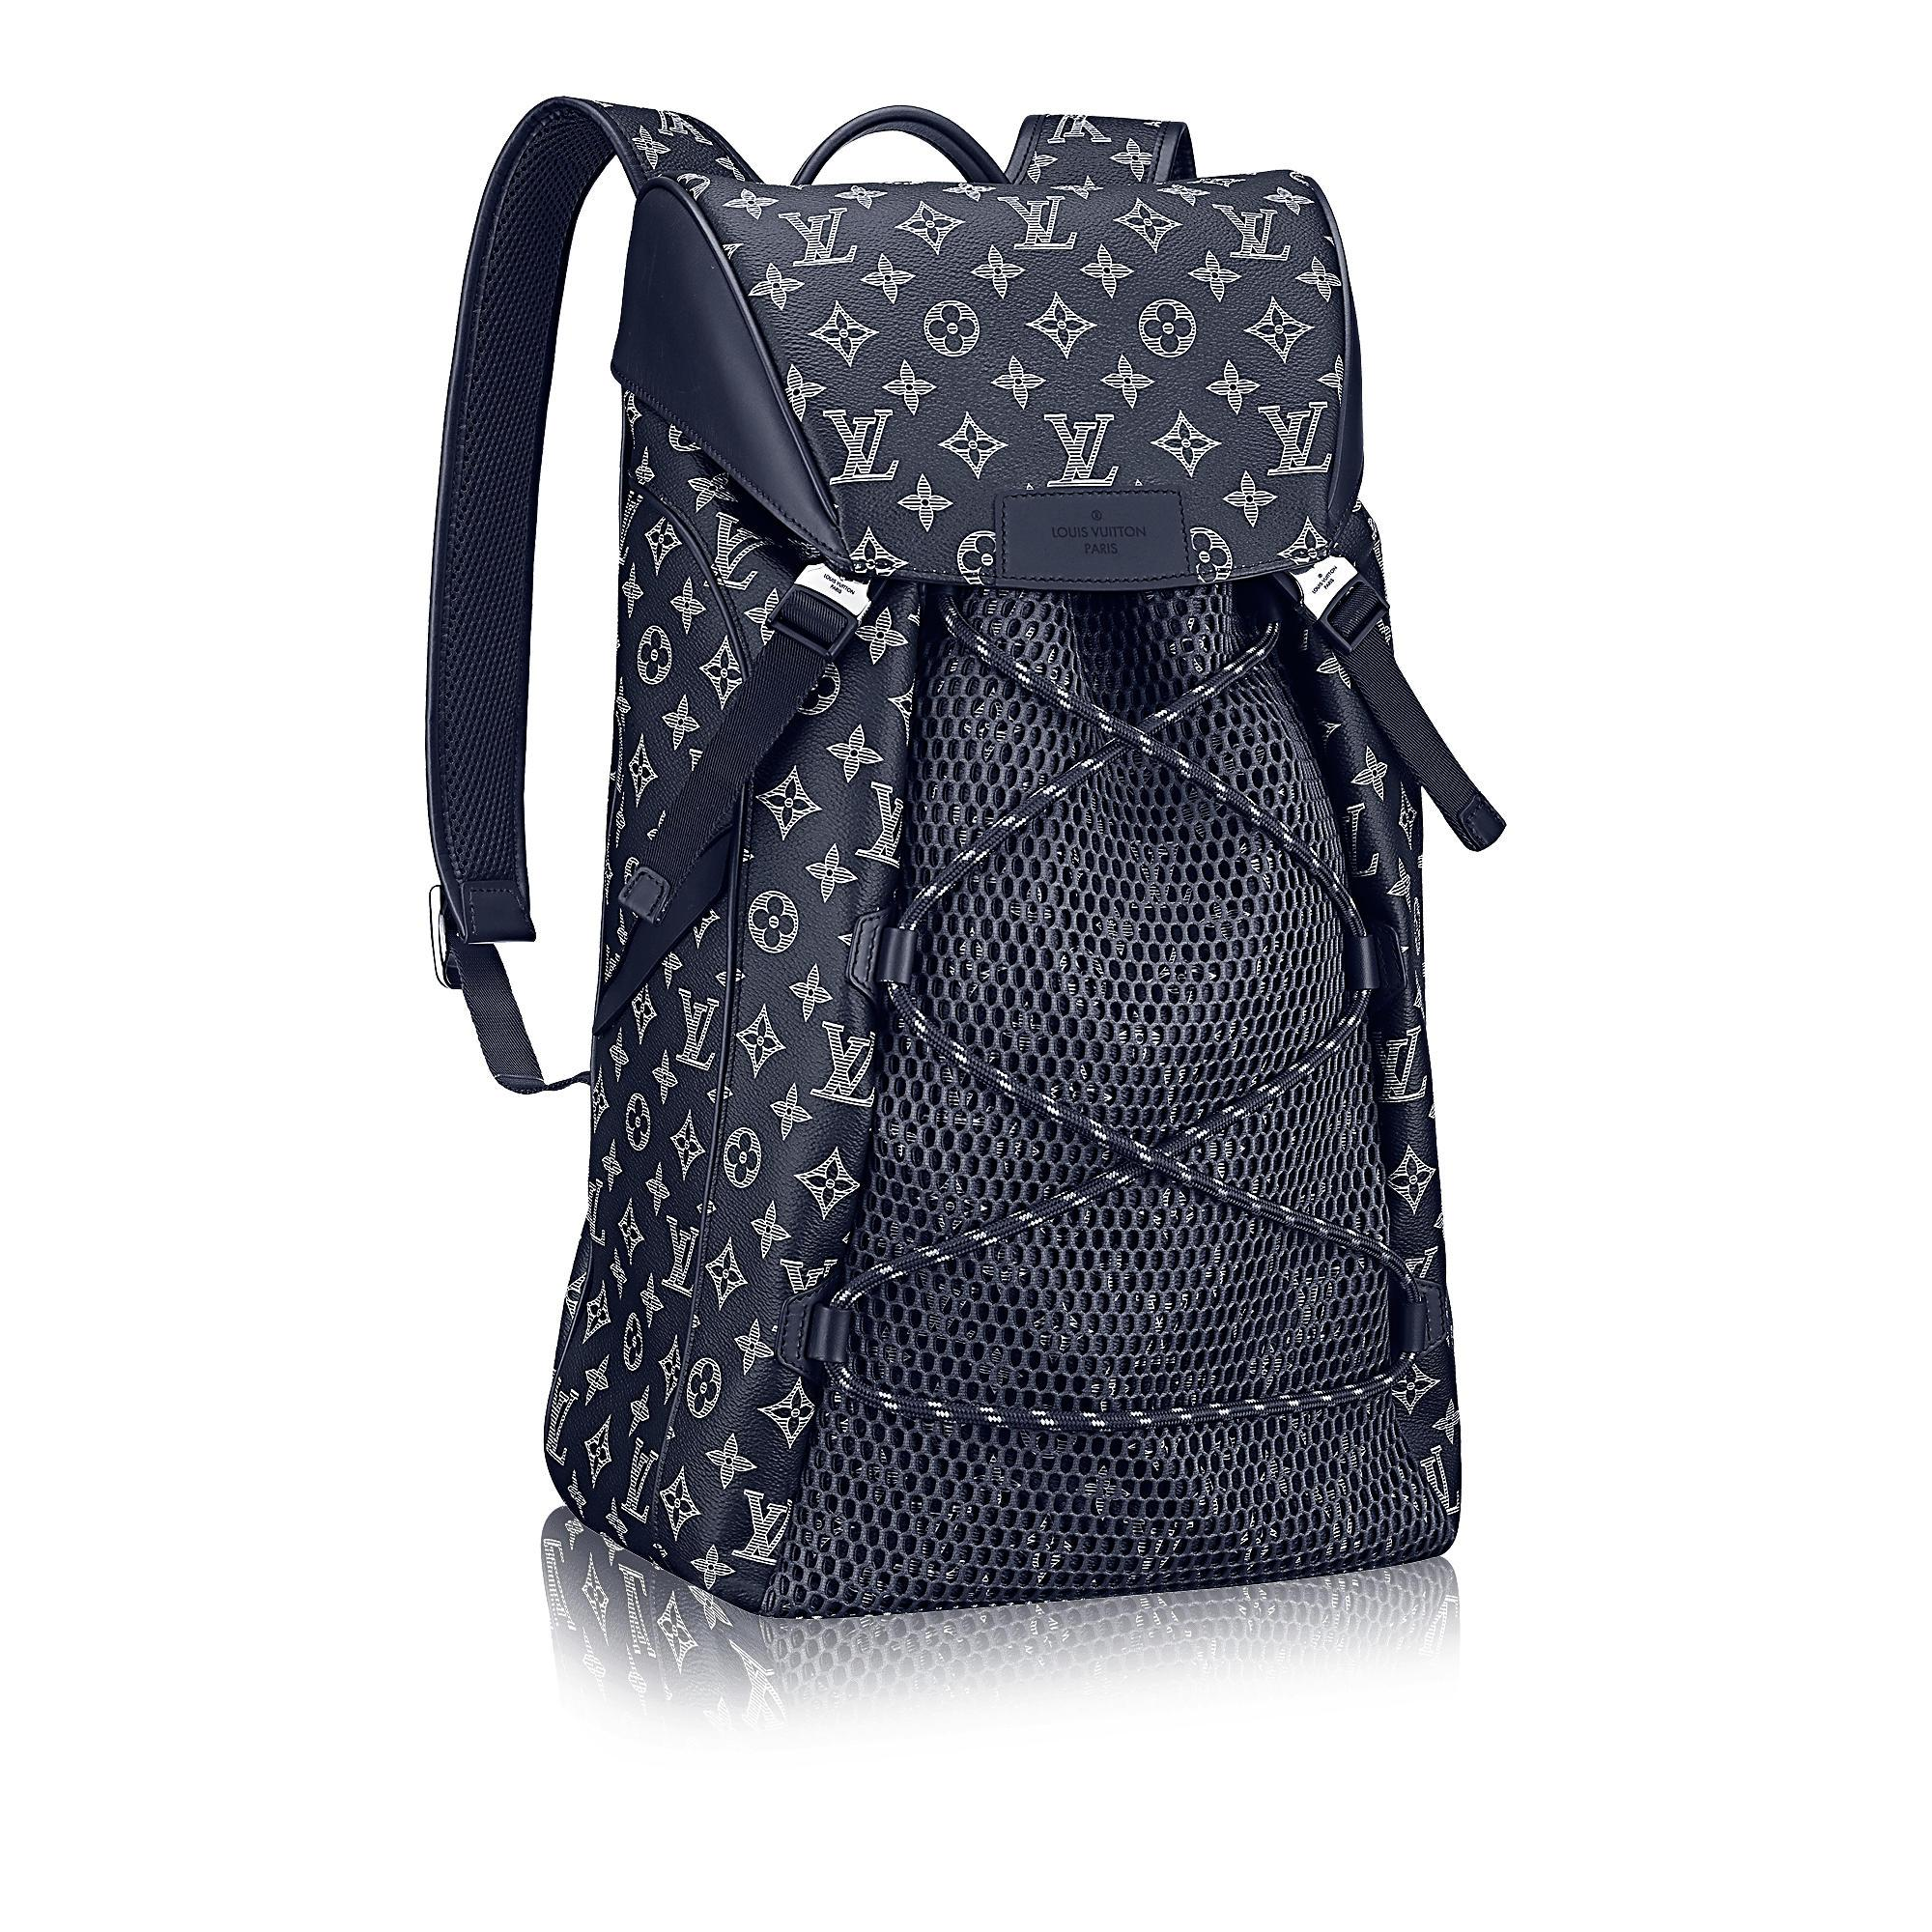LOUIS-VUITTON: (821, 407, 904, 490), (1256, 396, 1336, 479), (810, 1019, 879, 1115), (1039, 410, 1118, 492), (1210, 198, 1293, 265), (991, 195, 1081, 253), (777, 205, 860, 267), (740, 1481, 791, 1573), (1378, 1019, 1430, 1109), (713, 508, 761, 594), (674, 984, 720, 1072), (619, 1433, 656, 1525), (660, 1212, 701, 1295)
